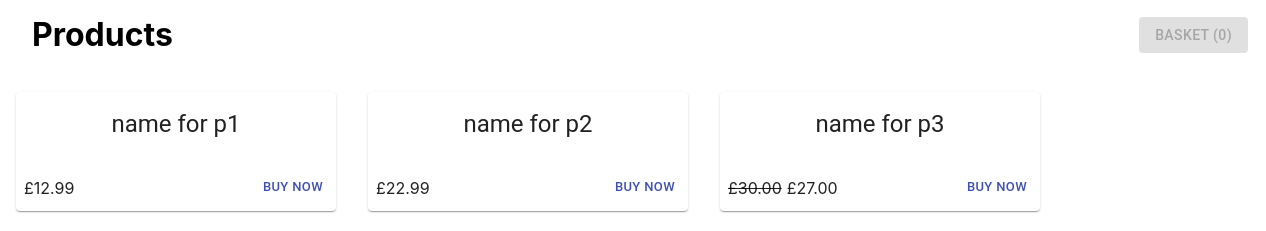
Test case: quantities › should not show buy now when it has been clicked
The image size is (1266, 231).
Step 1. Click the button "Buy Now" in the row of "£12.99" → (293, 188), box top-left (258, 172), bottom-right (328, 203)
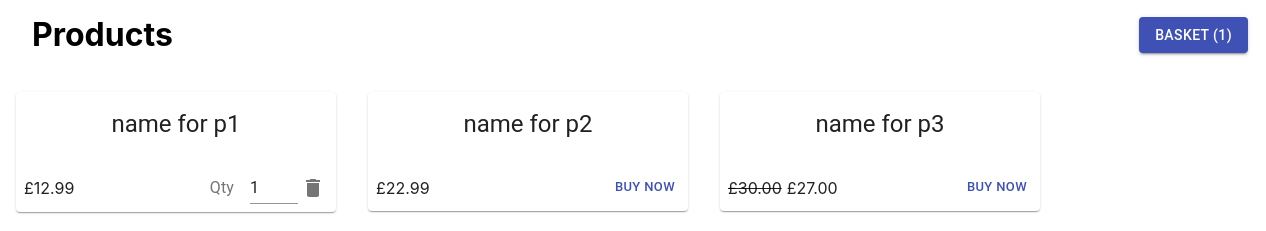
Expected: the number of buttons "Buy Now" is 2, top-left (610, 172), bottom-right (680, 203); top-left (962, 172), bottom-right (1032, 203)
Expected: the number field is shown, top-left (250, 172), bottom-right (298, 204)
Expected: the button "Basket (1)" is enabled, top-left (1139, 17), bottom-right (1248, 53)
